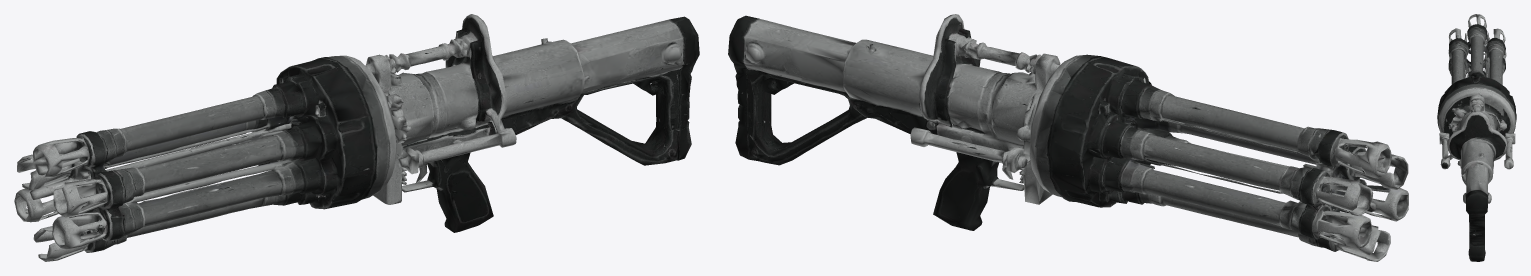
The model's file is gun_minigun.glb.
3 renders of one model, left to right at view 1: azimuth 30°, elevation 25°; view 2: azimuth 150°, elevation 25°; view 3: azimuth 270°, elevation 25°, orthographic. The views are drawn at different scales.
Size of the model in its own units: 1.9 by 0.5743 by 0.383.
Materials: 1 (1 with a texture image).
